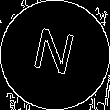N_S: (30, 26, 80, 84)
